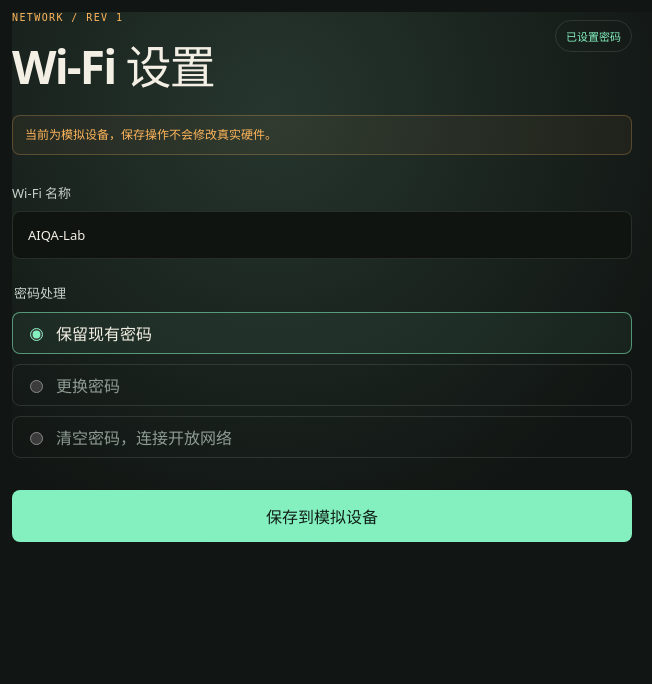
WifiSettings › loads the current SSID and saves a replacement password
This screenshot has width=652, height=684.
Replace the text in the field labelled "Wi-Fi 名称" with "studio-network" at (322, 235), box left=12, top=211, right=632, bottom=259
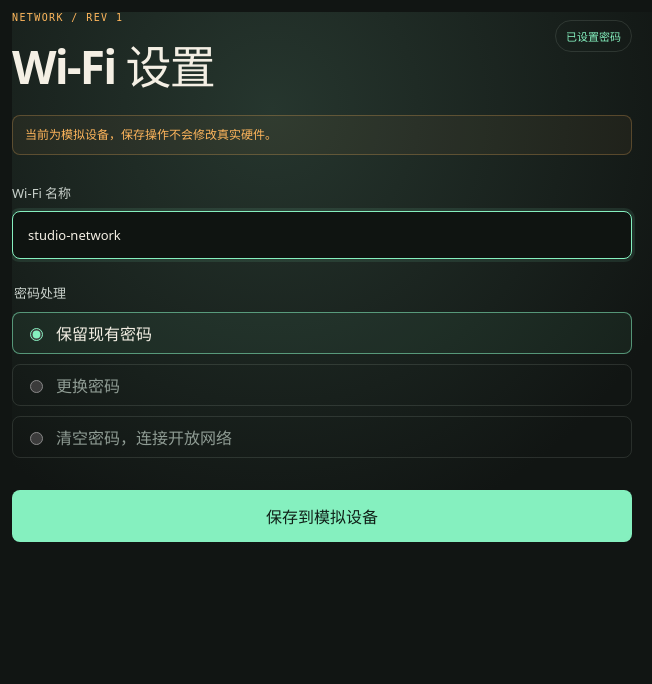
Click the radio button labelled "更换密码" at (36, 386), box left=30, top=380, right=43, bottom=393
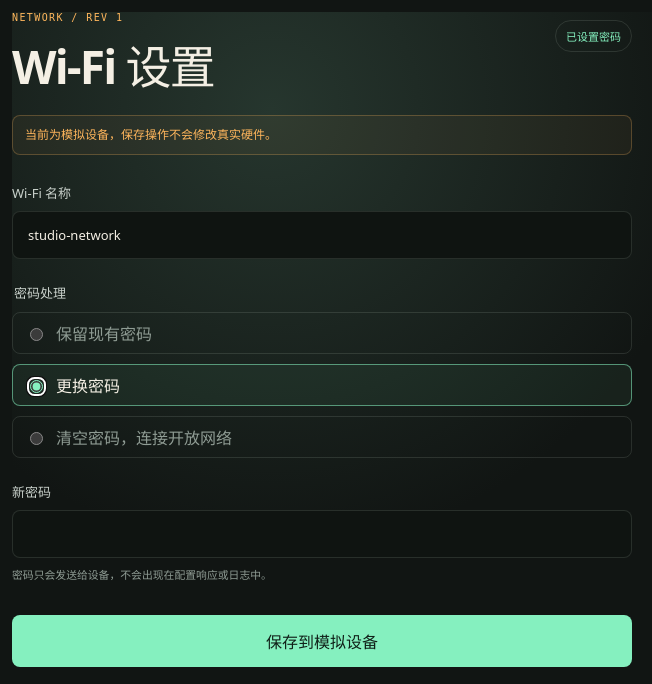
Type "correct-horse" into the password field labelled "新密码 密码只会发送给设备，不会出现在配置响应或日志中。" at (322, 534), box left=12, top=510, right=632, bottom=558
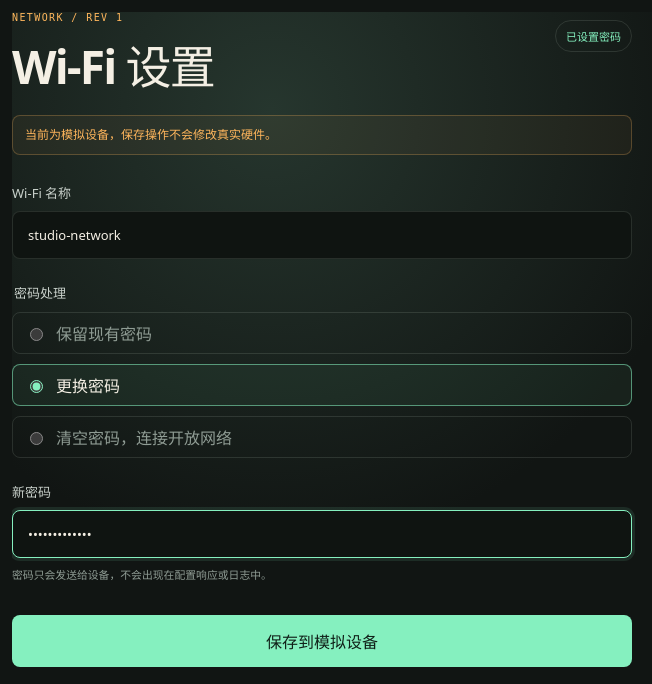
Click the button "保存到模拟设备" at (322, 641), box left=12, top=615, right=632, bottom=667
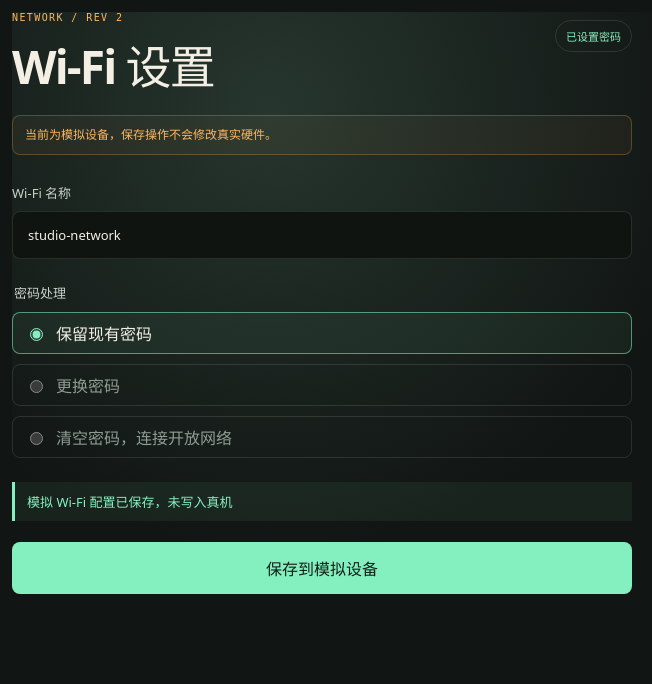
Expected: the text "模拟 Wi-Fi 配置已保存，未写入真机" is shown, left=12, top=482, right=632, bottom=521
